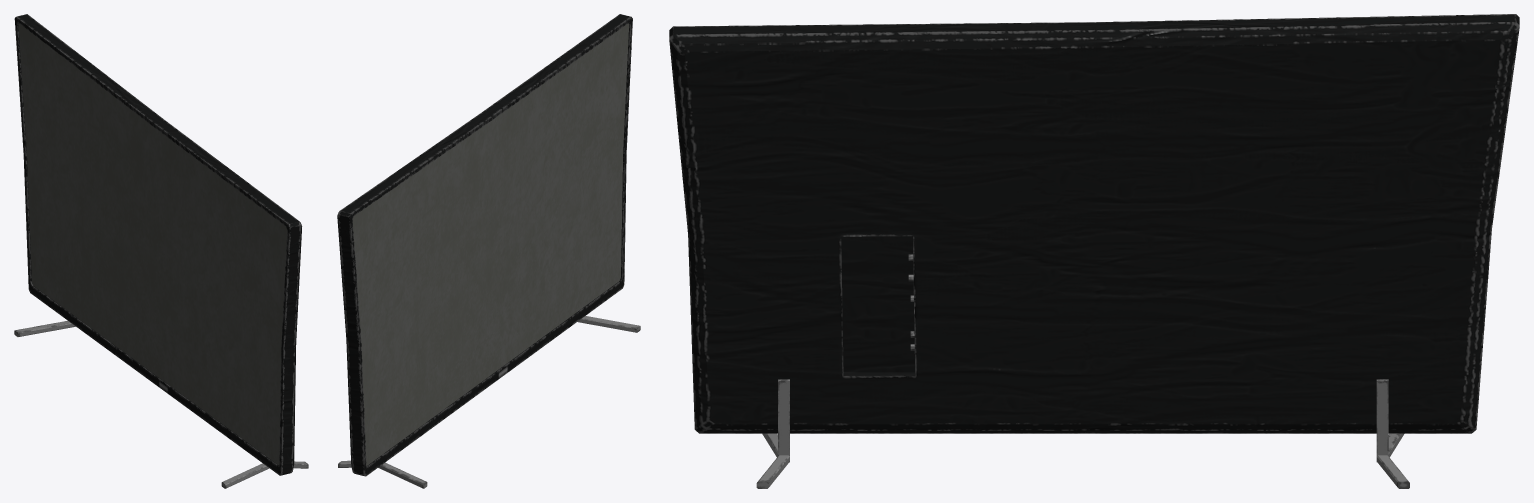
The model's file is stylized_modern_tv.glb.
3 views of the same model, side by side, from view 1: azimuth 30°, elevation 25°; view 2: azimuth 150°, elevation 25°; view 3: azimuth 270°, elevation 25° (orthographic). The views are drawn at different scales.
Parts seen in each view (by area): view 1: Object_2; view 2: Object_2; view 3: Object_2.
Part boxes in pixels (x1,y1,x2,y2): Object_2: [14, 14, 308, 488]; Object_2: [337, 14, 640, 488]; Object_2: [669, 14, 1519, 488].
Size of the model in its own units: 27.91 by 91.16 by 160.
Materials: 1 (1 with a texture image).
